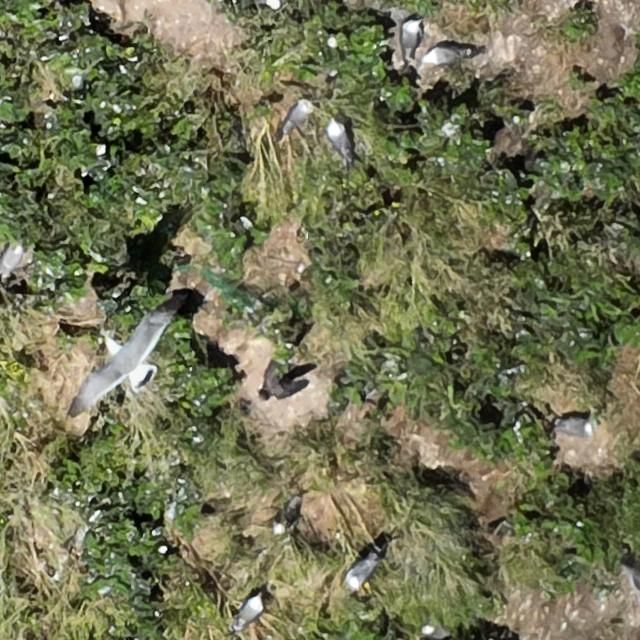F: (81, 296, 180, 407)
umineko: (347, 556, 377, 586), (234, 596, 260, 628), (556, 416, 594, 436), (284, 102, 310, 130), (327, 120, 348, 154), (401, 21, 419, 59), (425, 47, 460, 65), (1, 246, 22, 274), (423, 623, 450, 638), (255, 0, 282, 8)
